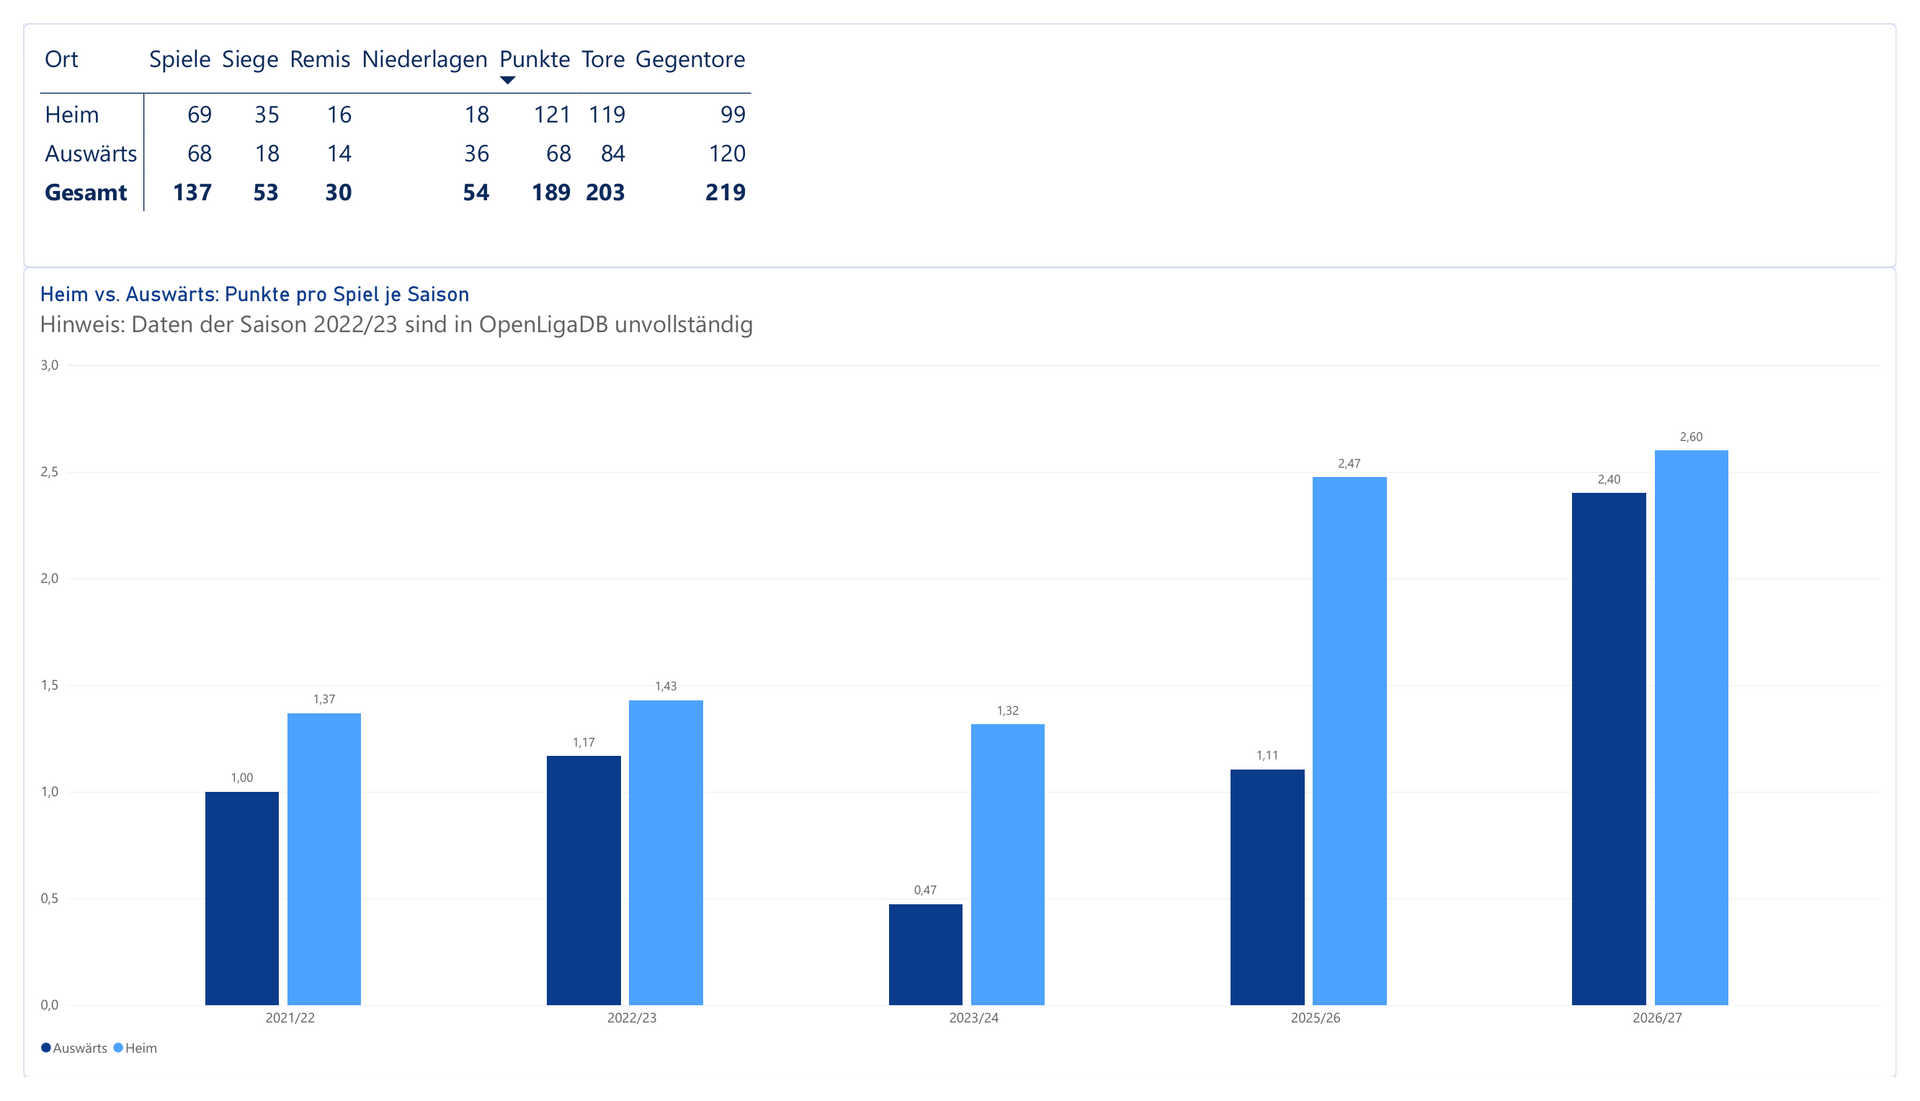

The dashboard page shown, as its layout file describes it:
{"tool":"powerbi","page":{"name":"Heim/Auswärts","canvas":[1920,1080],"ordinal":1},"visuals":[{"type":"clusteredColumnChart","title":"Heim vs. Auswärts: Punkte pro Spiel je Saison","fields":{"Category":["dim_season.season_label"],"Series":["fact_team_match.Ort"],"Y":["fact_team_match.Punkte pro Spiel"]},"box":[0,250.3,1920,830.4],"z":0},{"type":"pivotTable","title":"Zuhause deutlich stärker: 2,47 ","fields":{"Rows":["fact_team_match.Ort"],"Values":["fact_team_match.Spiele","fact_team_match.Siege","fact_team_match.Remis","fact_team_match.Niederlagen","fact_team_match.Punkte","fact_team_match.Tore","fact_team_match.Gegentore"]},"box":[0,0,1920,250.3],"z":1000}]}

Visuals, with their boxes in screenshot pixels (x1, y1, x2, y2), scaled from the page's 1920x1080 canvas onto the 1920x1101 screenshot:
"Heim vs. Auswärts: Punkte pro Spiel je Saison" clusteredColumnChart: <bbox>0, 255, 1919, 1100</bbox>
"Zuhause deutlich stärker: 2,47 " pivotTable: <bbox>0, 0, 1919, 255</bbox>
